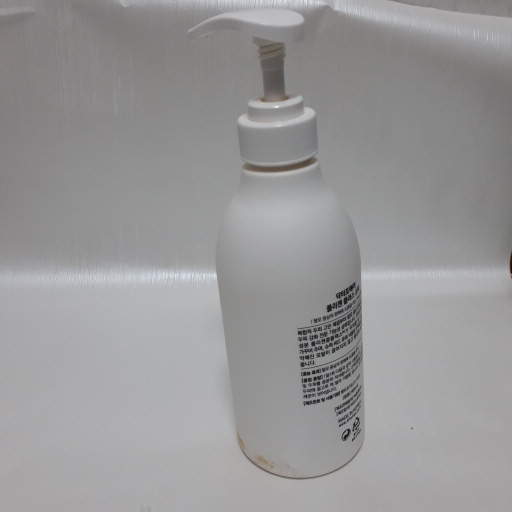Plastic_3: (184, 9, 366, 479)
